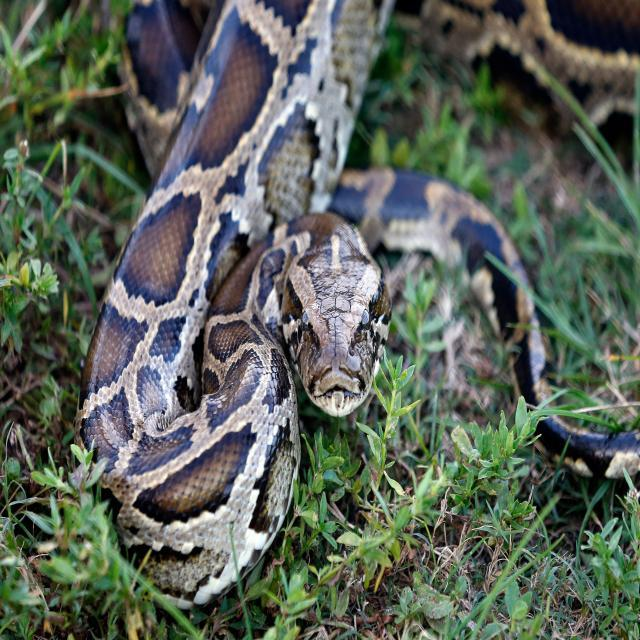Snake: (65, 0, 639, 621)
